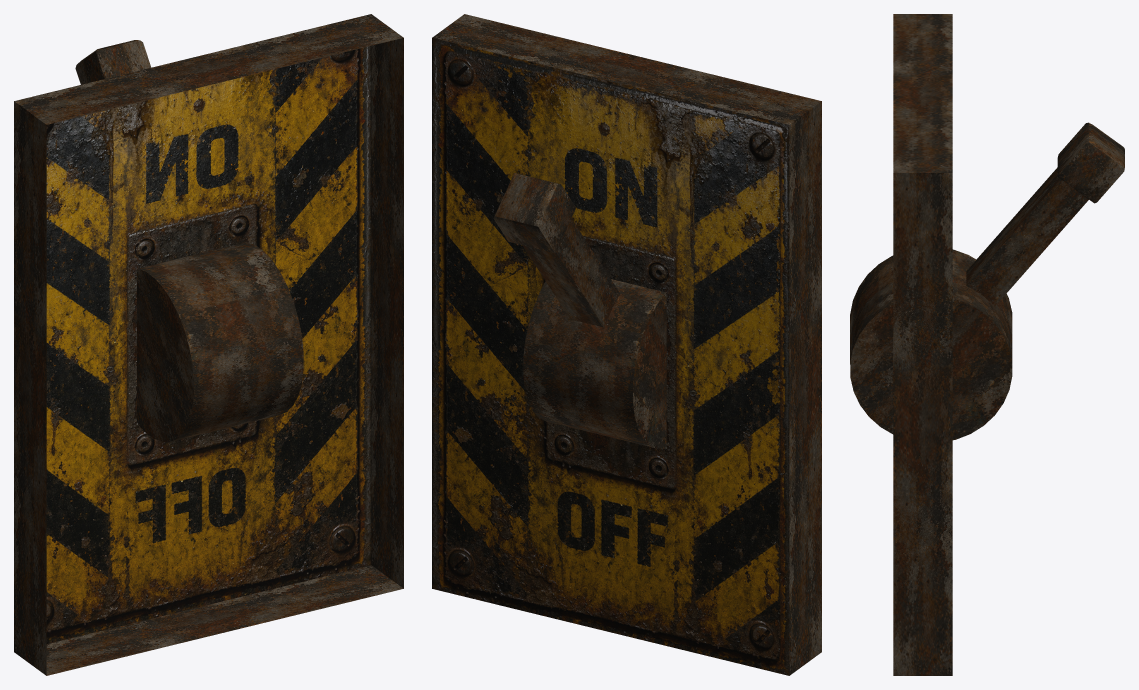
Rendered from simple_industrial_onoff_switch.glb.
3 views of the same model, side by side, from view 1: azimuth 30°, elevation 25°; view 2: azimuth 150°, elevation 25°; view 3: azimuth 270°, elevation 25° (orthographic). The views are drawn at different scales.
Parts seen in each view (by area): view 1: Panel.001, Switch.001; view 2: Panel.001, Switch.001; view 3: Panel.001, Switch.001.
Boxes of the visible parts, x1,y1,x2,y2 form: Panel.001: [14, 14, 403, 675]; Switch.001: [75, 40, 303, 441]; Panel.001: [432, 14, 821, 675]; Switch.001: [493, 173, 666, 448]; Panel.001: [893, 14, 952, 675]; Switch.001: [850, 122, 1124, 440].
Size of the model in its own units: 0.4483 by 0.6607 by 0.3271.
2 materials, 2 textured.
